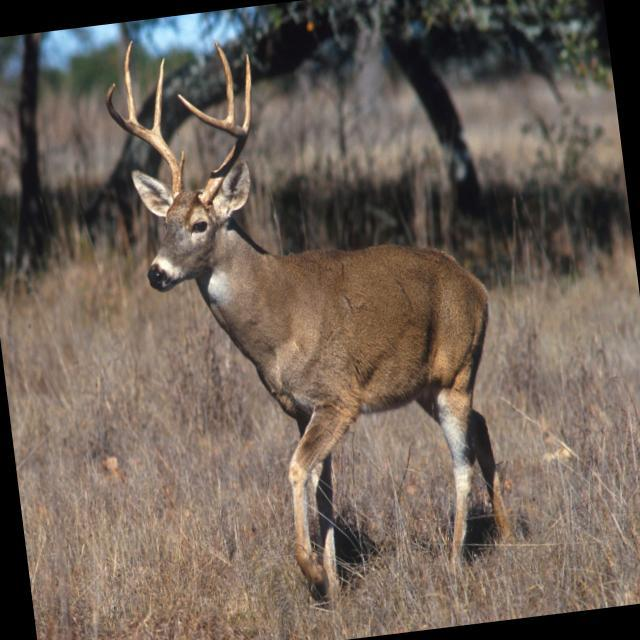L-F: (176, 93, 247, 209)
L-G1: (242, 53, 252, 137)
L-G2: (214, 39, 236, 123)
R-F: (105, 82, 183, 201)
R-G1: (178, 149, 185, 174)
R-G2: (152, 57, 164, 134)
R-G3: (124, 39, 137, 122)
